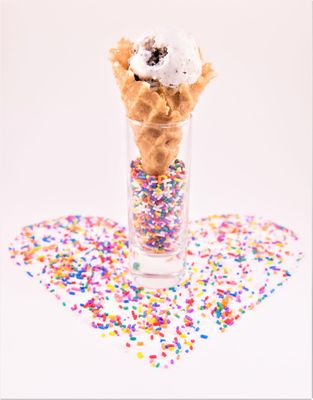soup: (123, 116, 195, 287)
